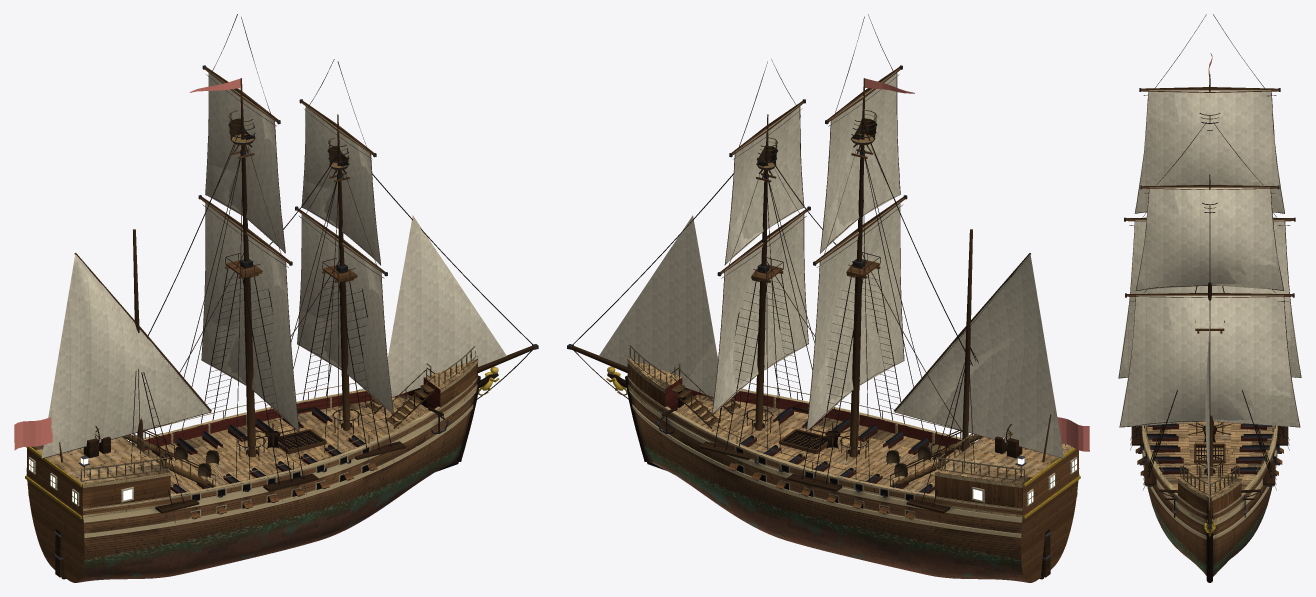
Rendered from caravel.glb.
3 renders of one model, left to right at view 1: azimuth 30°, elevation 25°; view 2: azimuth 150°, elevation 25°; view 3: azimuth 270°, elevation 25°, orthographic. The views are drawn at different scales.
Parts seen in each view (by area): view 1: LOD0_Body, LOD0_Wood, LOD2_m1_SquareSail, LOD2_m0_SquareSail, LOD0_m2_AftSail, LOD2_Body, LOD0_Jib, LOD2_Wood, LOD1_Wood, LOD0_m1_SquareSail, LOD1_m2_AftSail, LOD0_m0_SquareSail (+10 smaller); view 2: LOD0_Wood, LOD0_Body, LOD2_m1_SquareSail, LOD2_m0_SquareSail, LOD2_m2_AftSail, LOD2_Body, LOD2_Jib, LOD2_Wood, LOD1_Wood, LOD0_m1_SquareSail, LOD0_m0_SquareSail, LOD0_m2_AftSail (+10 smaller); view 3: LOD0_m0_SquareSail, LOD0_m1_SquareSail, LOD0_Body, LOD0_Wood, LOD2_Body, LOD1_m0_SquareSail, LOD2_m0_SquareSail, LOD1_m1_SquareSail, LOD2_m1_SquareSail, LOD0_m0_SquareYards, LOD0_m1_SquareYards, LOD2_m0_SquareYards (+7 smaller).
Part boxes in pixels (bbox=[...]): LOD0_Body: bbox=[27, 119, 499, 582]; LOD0_Wood: bbox=[25, 78, 538, 582]; LOD2_m1_SquareSail: bbox=[202, 71, 297, 424]; LOD2_m0_SquareSail: bbox=[298, 105, 393, 413]; LOD0_m2_AftSail: bbox=[41, 254, 176, 458]; LOD2_Body: bbox=[31, 358, 477, 580]; LOD0_Jib: bbox=[387, 215, 495, 397]; LOD2_Wood: bbox=[33, 147, 527, 575]; LOD1_Wood: bbox=[28, 118, 534, 582]; LOD0_m1_SquareSail: bbox=[201, 109, 298, 431]; LOD1_m2_AftSail: bbox=[42, 261, 210, 457]; LOD0_m0_SquareSail: bbox=[297, 142, 383, 369]; LOD0_Wood: bbox=[567, 78, 1080, 582]; LOD0_Body: bbox=[606, 119, 1078, 582]; LOD2_m1_SquareSail: bbox=[808, 82, 901, 430]; LOD2_m0_SquareSail: bbox=[714, 115, 808, 412]; LOD2_m2_AftSail: bbox=[929, 254, 1063, 457]; LOD2_Body: bbox=[628, 358, 1072, 580]; LOD2_Jib: bbox=[599, 215, 715, 396]; LOD2_Wood: bbox=[599, 147, 1072, 575]; LOD1_Wood: bbox=[571, 118, 1077, 582]; LOD0_m1_SquareSail: bbox=[807, 71, 903, 430]; LOD0_m0_SquareSail: bbox=[712, 105, 803, 413]; LOD0_m2_AftSail: bbox=[895, 359, 1063, 458]; LOD0_m0_SquareSail: bbox=[1120, 187, 1291, 426]; LOD0_m1_SquareSail: bbox=[1121, 90, 1291, 372]; LOD0_Body: bbox=[1130, 122, 1289, 575]; LOD0_Wood: bbox=[1131, 74, 1288, 582]; LOD2_Body: bbox=[1146, 421, 1273, 576]; LOD1_m0_SquareSail: bbox=[1126, 187, 1292, 424]; LOD2_m0_SquareSail: bbox=[1121, 187, 1299, 427]; LOD1_m1_SquareSail: bbox=[1125, 90, 1292, 339]; LOD2_m1_SquareSail: bbox=[1119, 90, 1300, 377]; LOD0_m0_SquareYards: bbox=[1119, 122, 1300, 427]; LOD0_m1_SquareYards: bbox=[1118, 14, 1301, 378]; LOD2_m0_SquareYards: bbox=[1127, 186, 1292, 297].
Size of the model in its own units: 34.39 by 33.66 by 11.17.
Materials: 5 (3 with a texture image).
